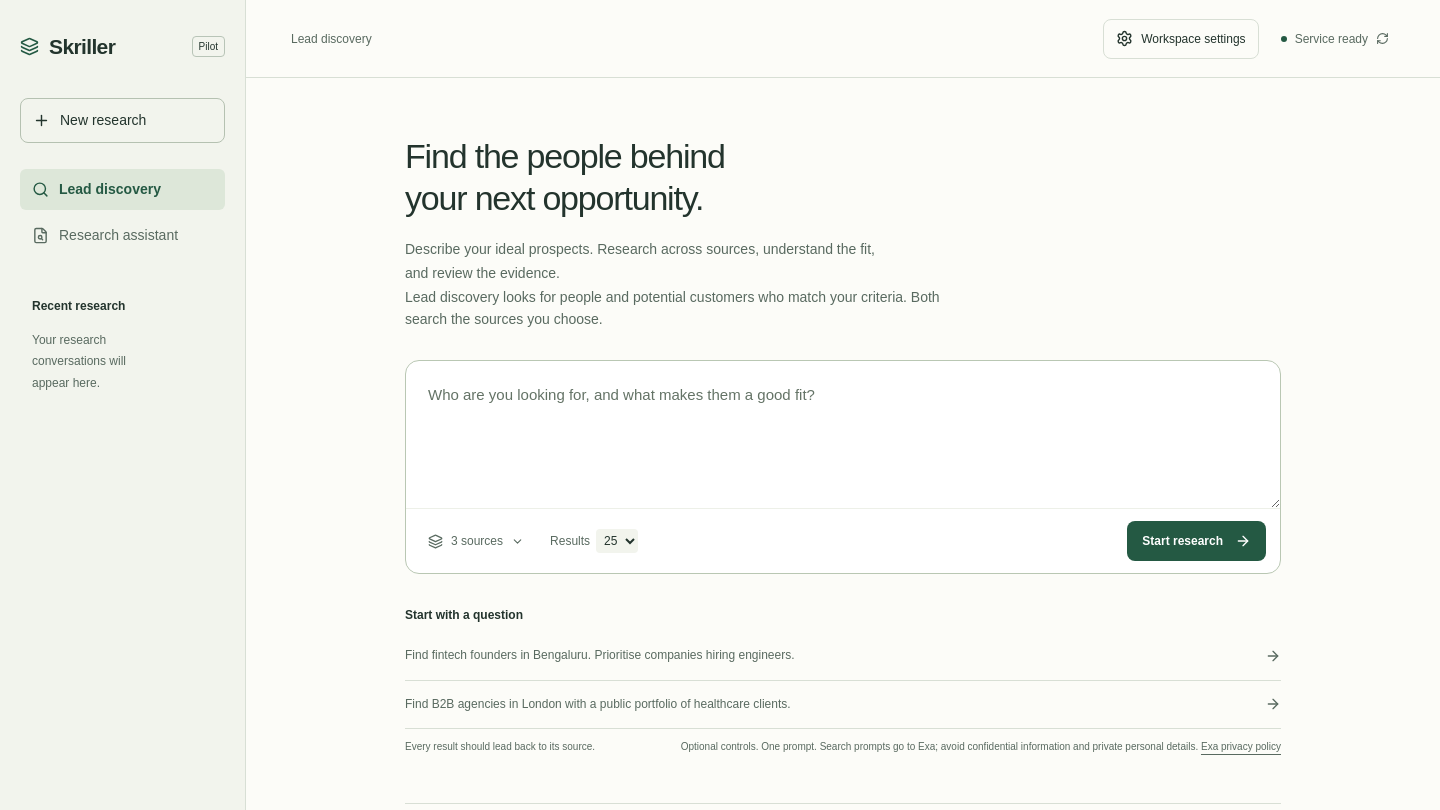
hides a prior account's run immediately when the signed-in account changes
Expected: the button "Start research" is enabled, [1127, 521, 1266, 561]
Type "Find companies" into the text box at [843, 435], box [406, 361, 1280, 508]
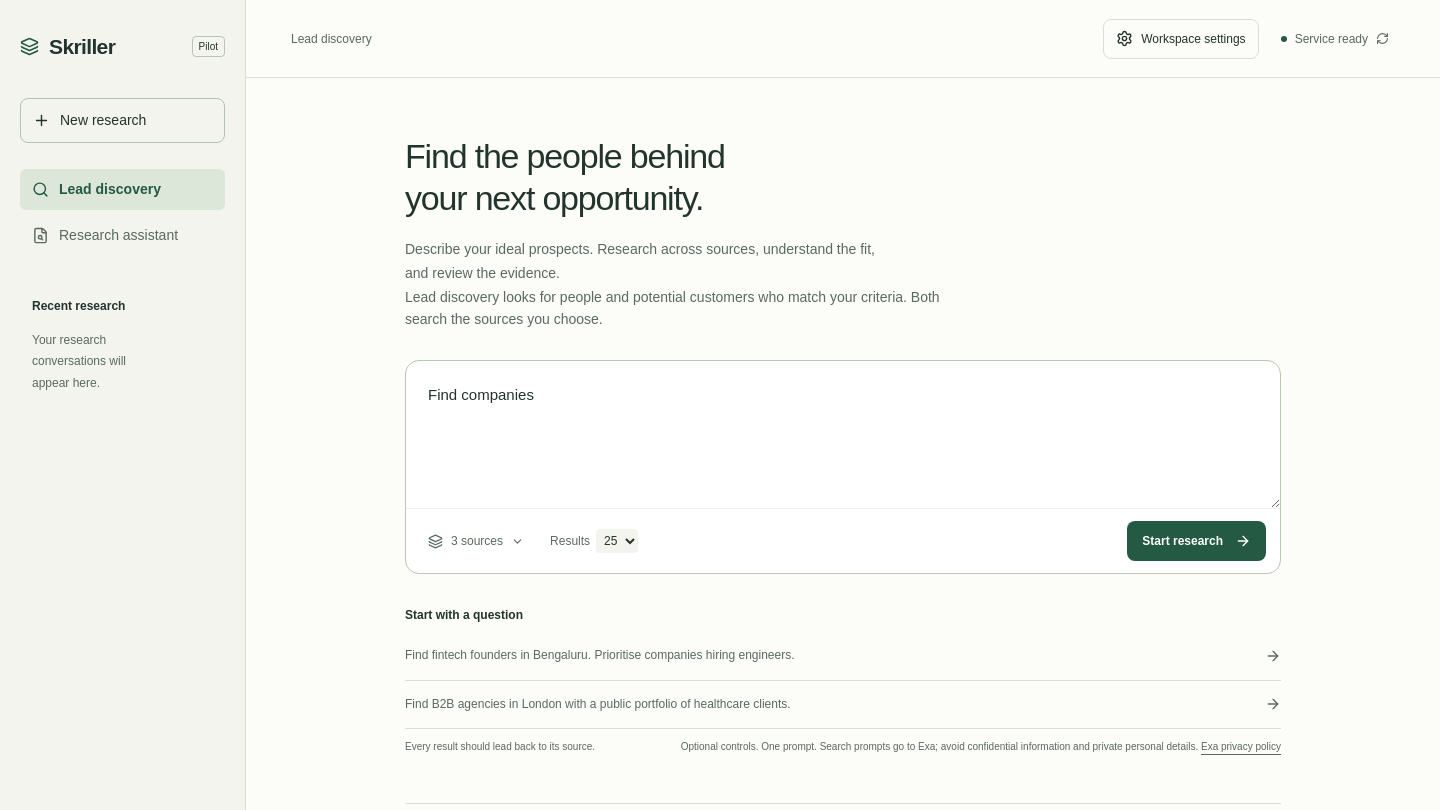
Click the button "Start research" at [1197, 541], box [1127, 521, 1266, 561]
(page scrolled)
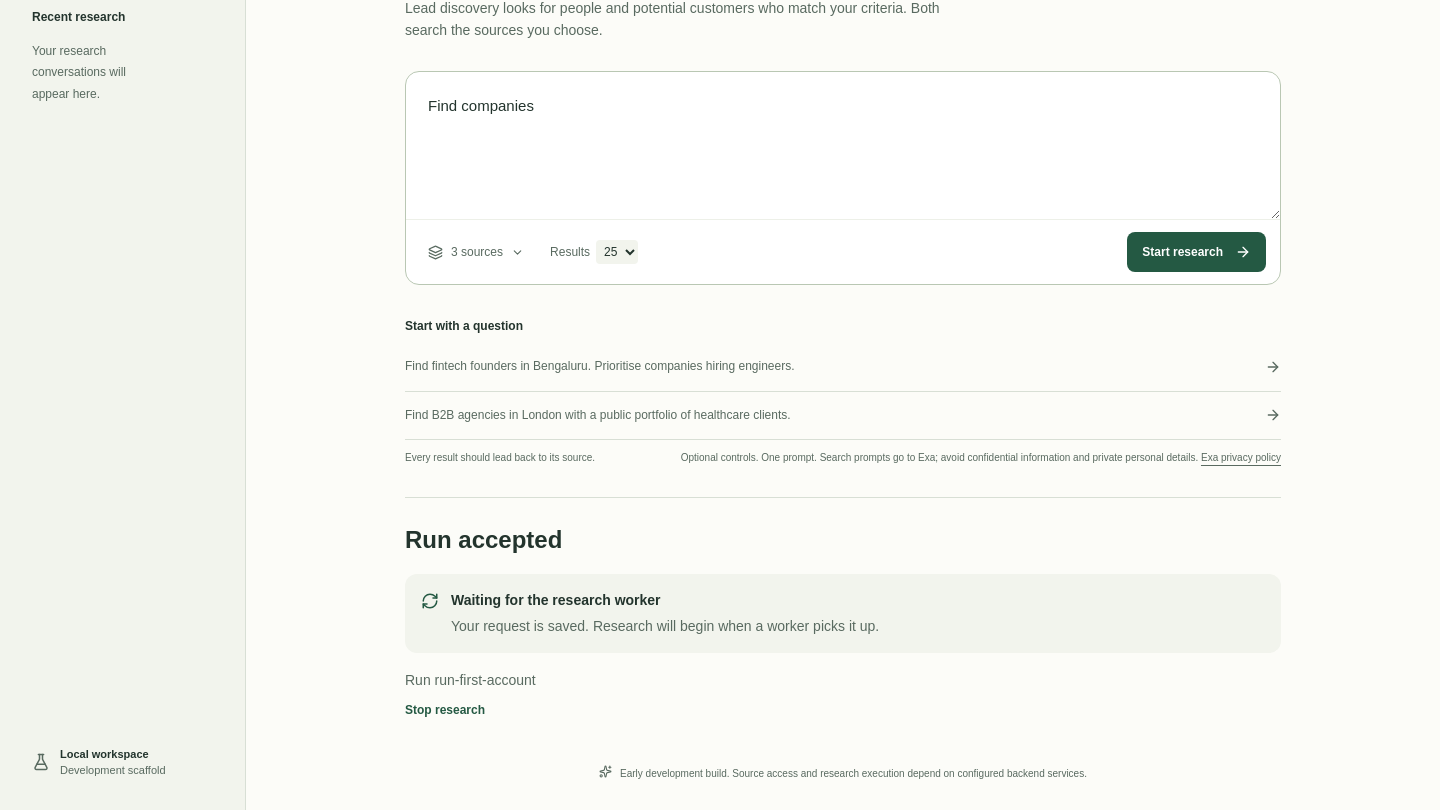
Expected: the heading "Run accepted" is shown, [405, 526, 562, 553]
